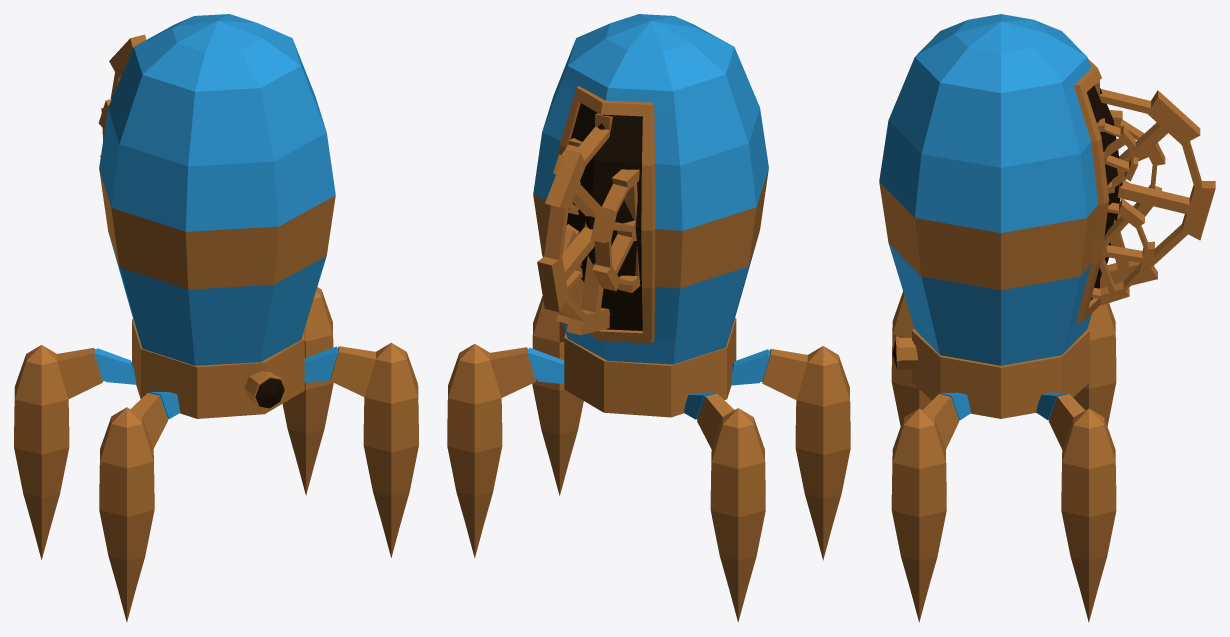
File: Drone.fbx
3 renders of one model, left to right at view 1: azimuth 30°, elevation 25°; view 2: azimuth 150°, elevation 25°; view 3: azimuth 270°, elevation 25°, orthographic.
Parts seen in each view (by area): view 1: Drone; view 2: Drone; view 3: Drone.
Boxes of the visible parts, x1,y1,x2,y2 form: Drone: (14,14,418,622); Drone: (447,14,850,622); Drone: (879,14,1215,622).
Size of the model in its own units: 62.72 by 101 by 57.51.
